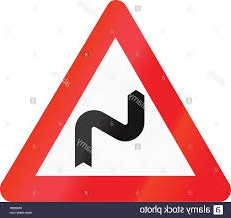Double_bend_right: (1, 1, 231, 205)
